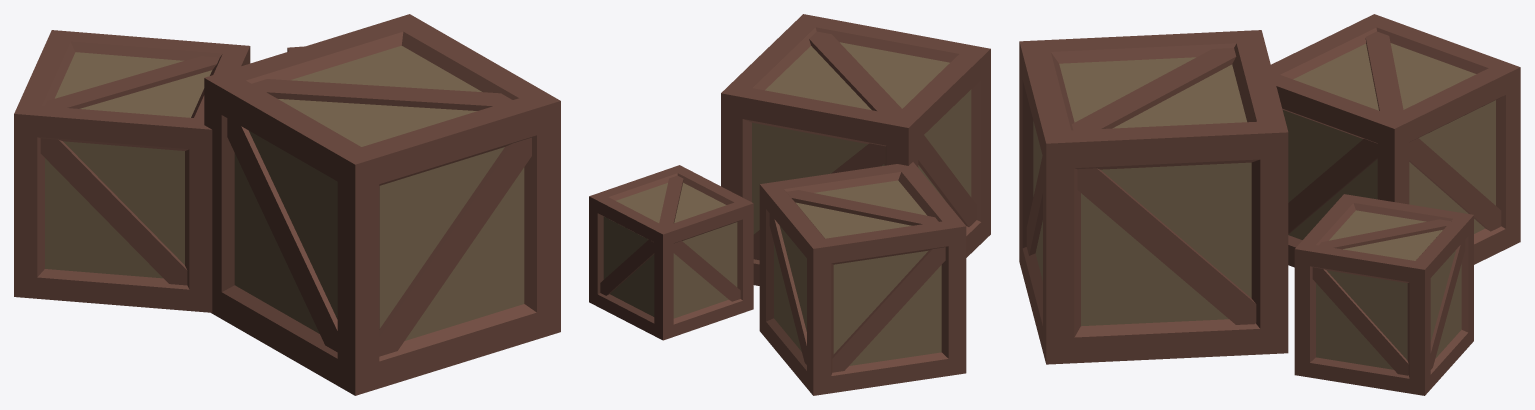
File: crate_bundle.fbx
3 views of the same model, side by side, from view 1: azimuth 30°, elevation 25°; view 2: azimuth 150°, elevation 25°; view 3: azimuth 270°, elevation 25° (orthographic). The views are drawn at different scales.
Visible parts, largest first — view 1: Crate Bundle; view 2: Crate Bundle; view 3: Crate Bundle.
Part boxes in pixels (x1,y1,x2,y2): Crate Bundle: [14, 14, 560, 395]; Crate Bundle: [589, 14, 990, 395]; Crate Bundle: [1019, 14, 1520, 395].
Bounding box in the file's own units: 158 × 78.91 × 162.
